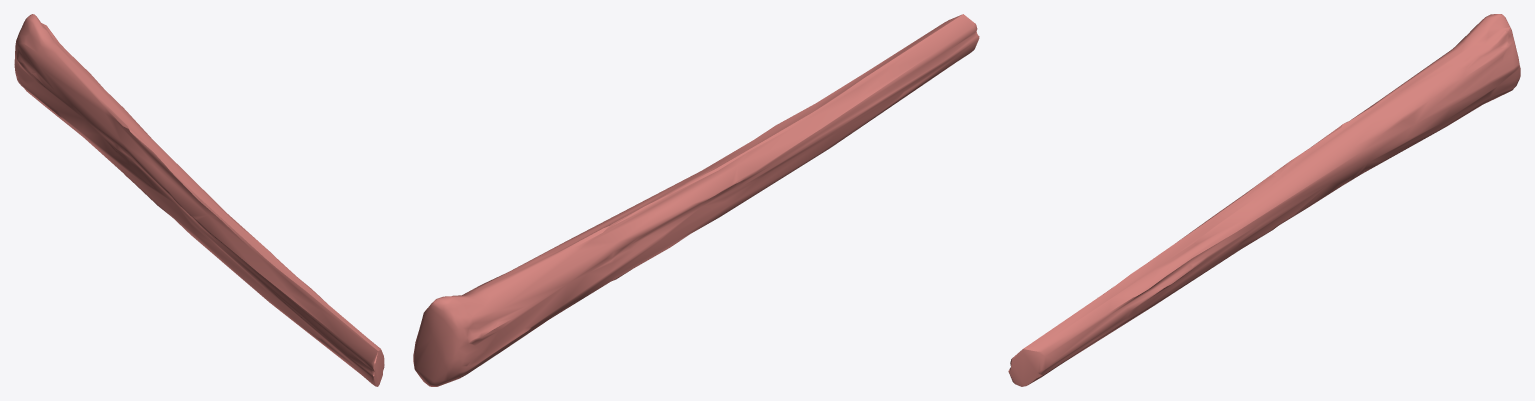
The model's file is fma46593_fj2788.glb.
The picture shows the model from 3 angles, left to right: view 1: azimuth 30°, elevation 25°; view 2: azimuth 150°, elevation 25°; view 3: azimuth 330°, elevation 25°; orthographic projection. The views are drawn at different scales.
Visible parts, largest first — view 1: FMA46593_FJ2788; view 2: FMA46593_FJ2788; view 3: FMA46593_FJ2788.
Part boxes in pixels (x1=…): FMA46593_FJ2788: x1=14, y1=14, x2=384, y2=386; FMA46593_FJ2788: x1=413, y1=14, x2=979, y2=386; FMA46593_FJ2788: x1=1008, y1=14, x2=1520, y2=386.
Size of the model in its own units: 0.00159 by 0.00143 by 0.0141.
